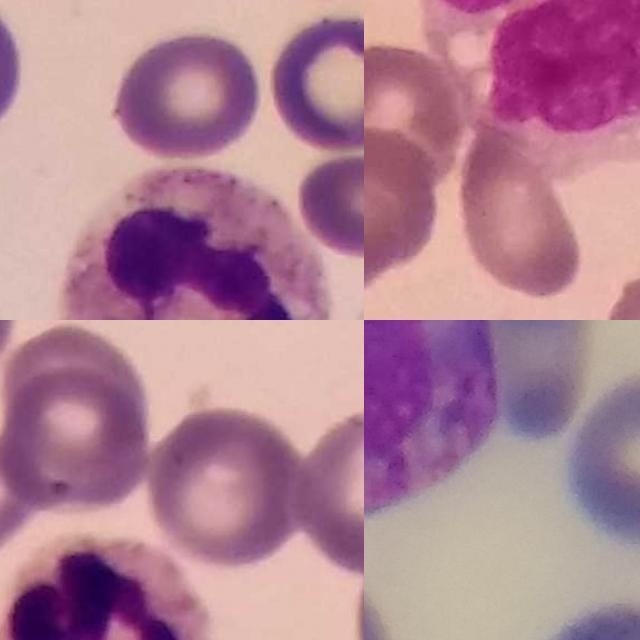Basophil: (364, 320, 503, 522)
Monocyte: (423, 0, 640, 139)
Neutrophil: (64, 167, 323, 320), (0, 533, 211, 640)
